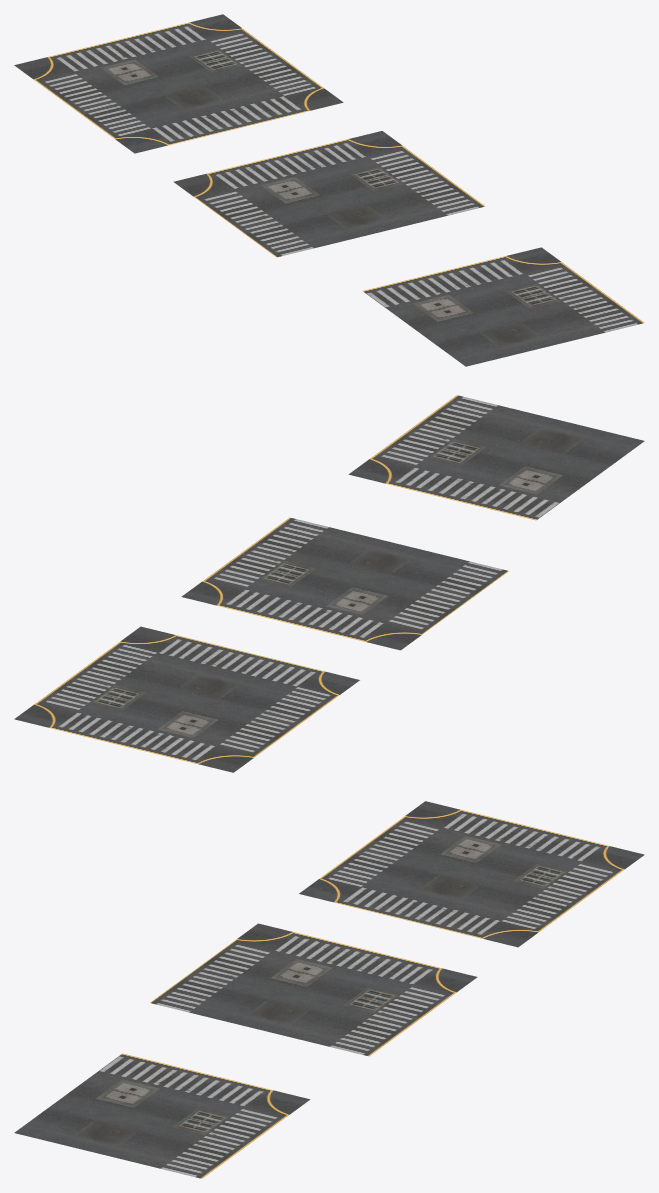
Rendered from roadsMod.glb.
3 views of the same model, one above another, from view 1: azimuth 30°, elevation 25°; view 2: azimuth 150°, elevation 25°; view 3: azimuth 330°, elevation 25° (orthographic). The views are drawn at different scales.
Parts seen in each view (by area): view 1: Road_L_Intersection_City_Intersection_mat_0; view 2: Road_L_Intersection_City_Intersection_mat_0; view 3: Road_L_Intersection_City_Intersection_mat_0.
Part boxes in pixels (x1,y1,x2,y2): Road_L_Intersection_City_Intersection_mat_0: [14, 14, 644, 366]; Road_L_Intersection_City_Intersection_mat_0: [14, 395, 644, 772]; Road_L_Intersection_City_Intersection_mat_0: [14, 801, 644, 1178].
Size of what is drawn, in the model's own units: 37.92 by 4.67e-07 by 132.
Materials: 1 (1 with a texture image).
